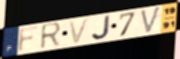7: (118, 10, 138, 38)
F: (16, 24, 42, 54)
J: (90, 14, 112, 41)
R: (39, 21, 64, 51)
V: (67, 17, 92, 45), (140, 5, 163, 35)
